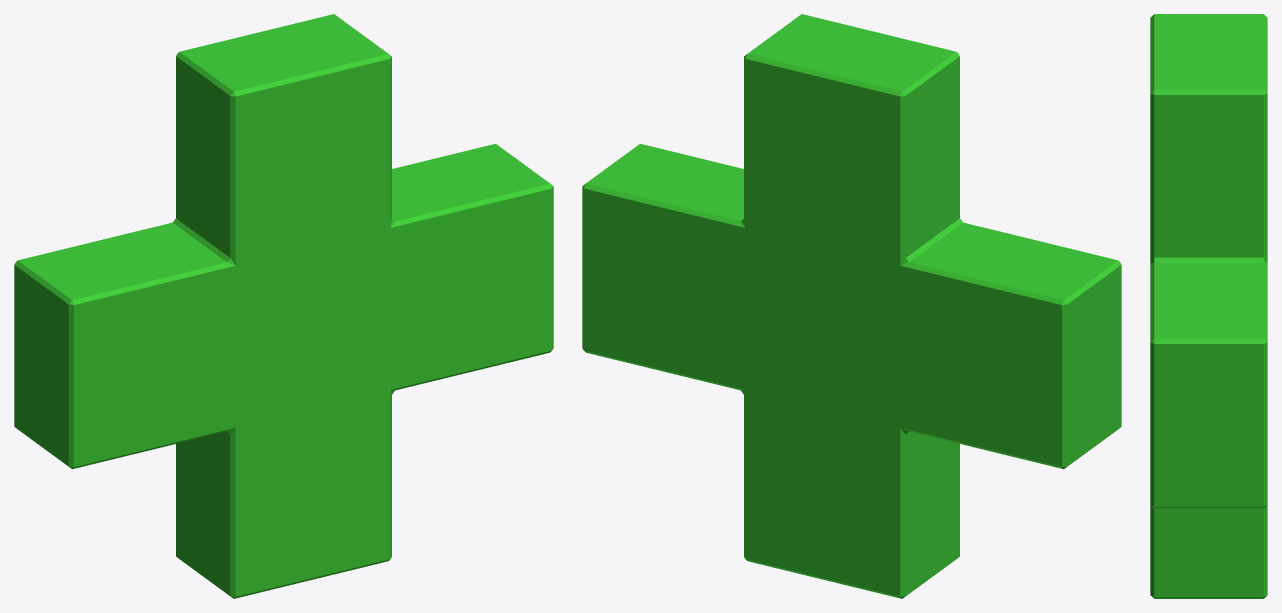
File: Cruz.fbx
3 renders of one model, left to right at view 1: azimuth 30°, elevation 25°; view 2: azimuth 150°, elevation 25°; view 3: azimuth 270°, elevation 25°, orthographic.
Visible parts, largest first — view 1: Plane; view 2: Plane; view 3: Plane.
Boxes of the visible parts, x1=… form: Plane: x1=14, y1=14, x2=553, y2=598; Plane: x1=582, y1=14, x2=1121, y2=598; Plane: x1=1150, y1=14, x2=1267, y2=598.
Bounding box in the file's own units: 600 × 600 × 125.
